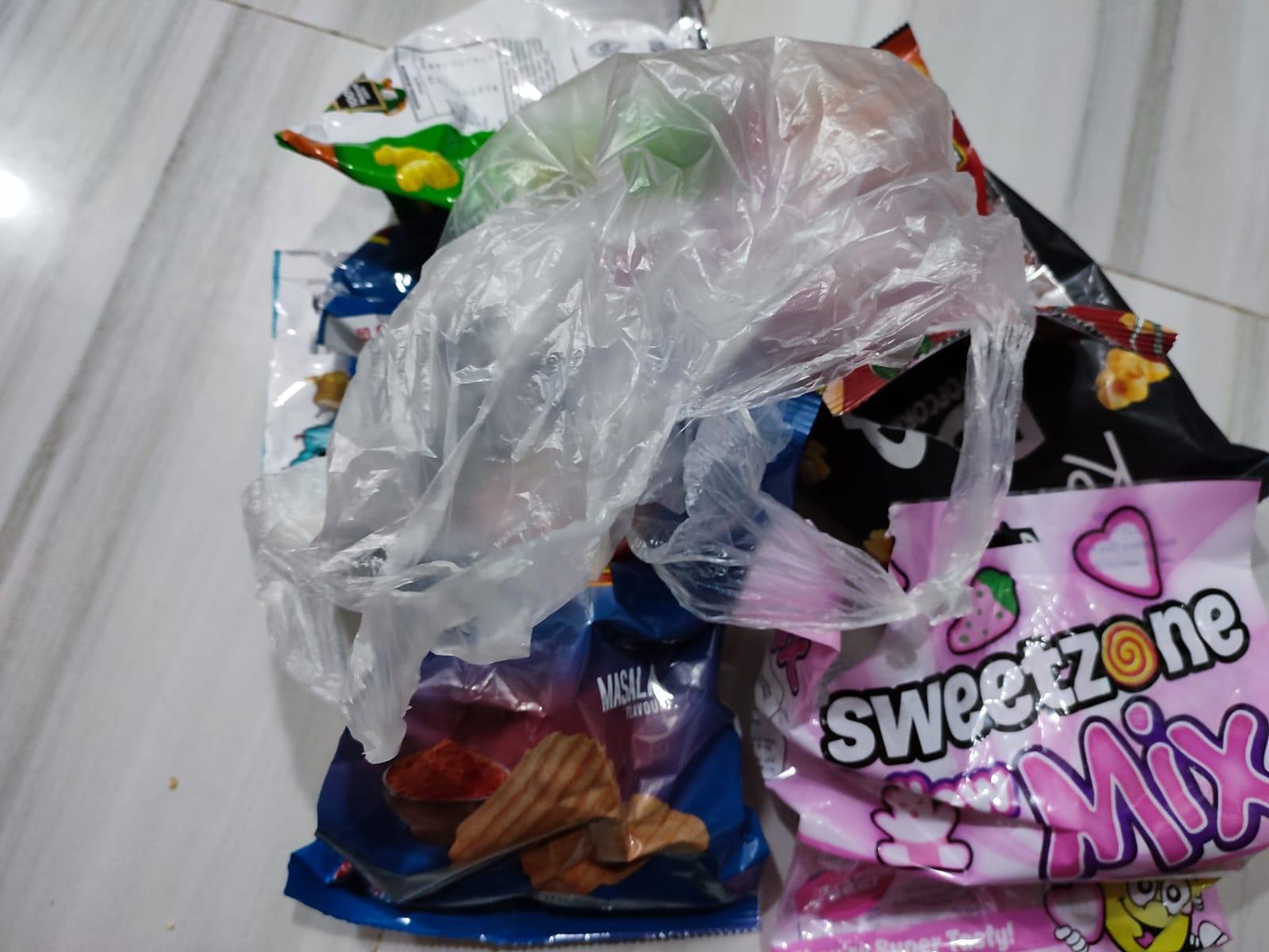garbage: (238, 0, 1269, 952)
